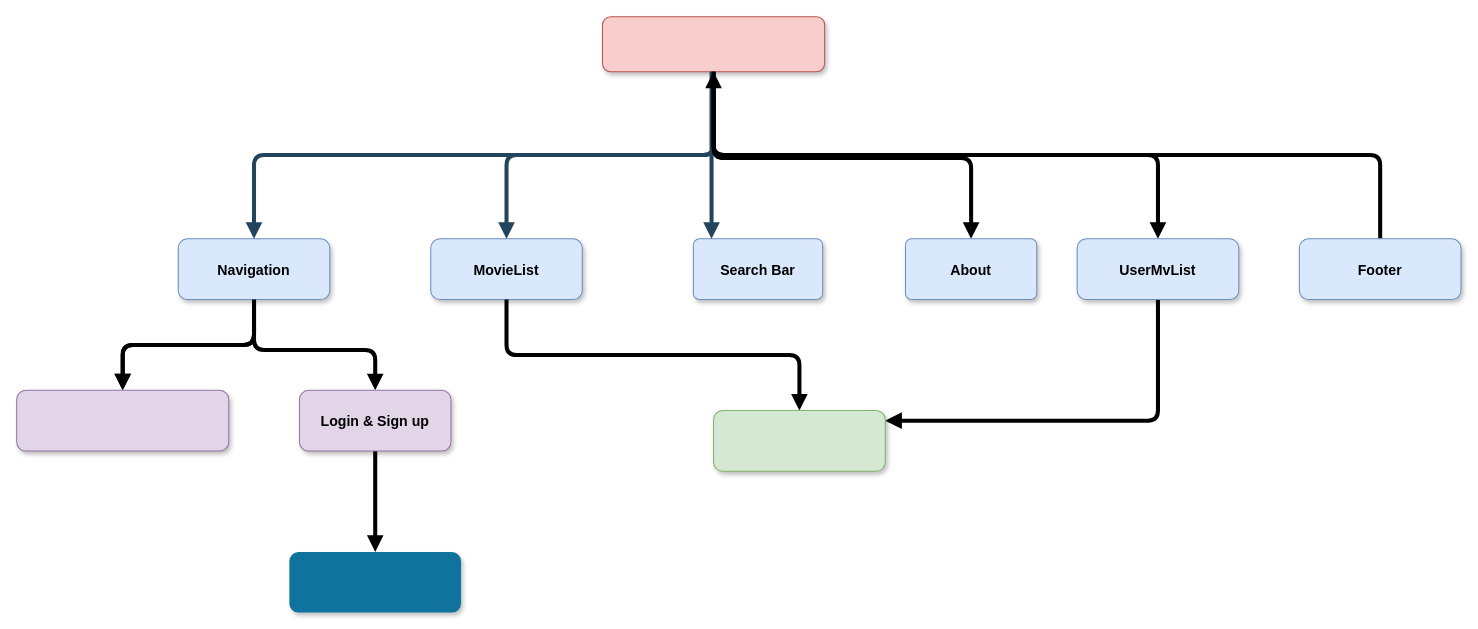
This 1478x629 diagram has some shape labels left out. Here are the shapes that lost their labels. From the top down, the centre of each, then its label:
At pixel 714 45: "App".
At pixel 123 421: "LinkToUserMvDB - Logout".
At pixel 800 442: "Movie(MvDetails)".
At pixel 376 583: "Authorization Form".
